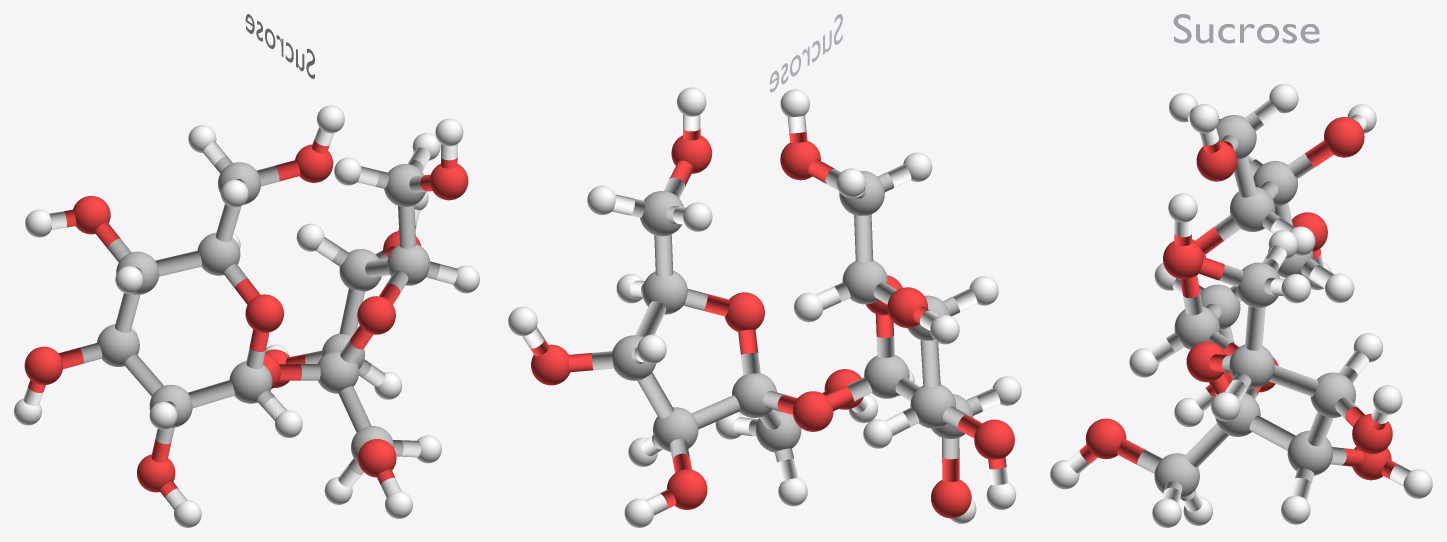
Rendered from SUCROSE.glb.
The picture shows the model from 3 angles, left to right: view 1: azimuth 30°, elevation 25°; view 2: azimuth 150°, elevation 25°; view 3: azimuth 270°, elevation 25°; orthographic projection. The views are drawn at different scales.
Parts seen in each view (by area): view 1: sucrose_0, Text.005; view 2: sucrose_0, Text.005; view 3: sucrose_0, Text.005.
Boxes of the visible parts, x1,y1,x2,y2 form: sucrose_0: (14,105,479,527); Text.005: (245,14,314,78); sucrose_0: (508,87,1021,527); Text.005: (769,14,842,92); sucrose_0: (1050,84,1432,527); Text.005: (1173,14,1319,43).
Bounding box in the file's own units: 11.6 × 11.67 × 8.22.
